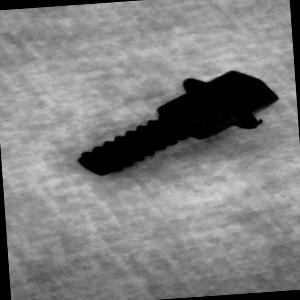parafuso: (58, 64, 288, 185)
